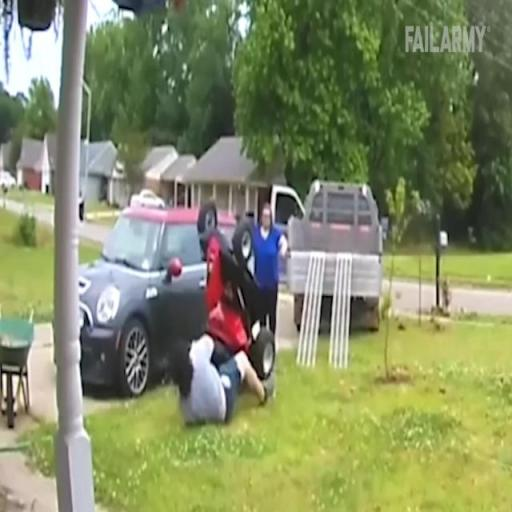Fall: (170, 332, 276, 429)
